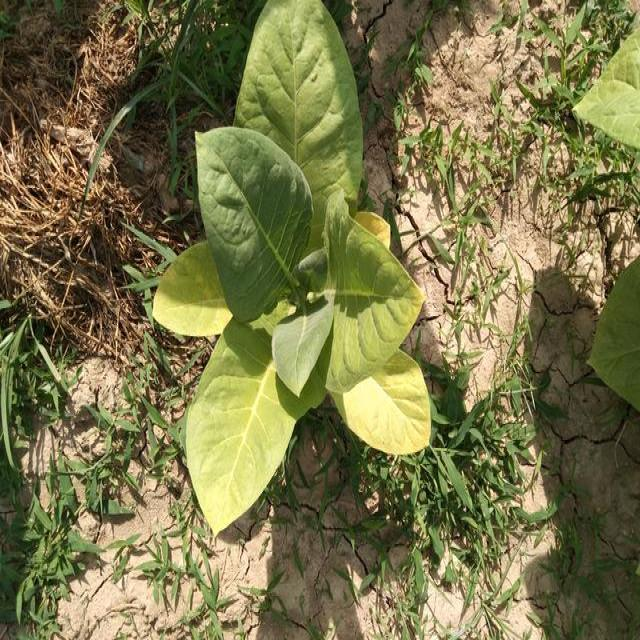crop: (143, 5, 440, 534)
